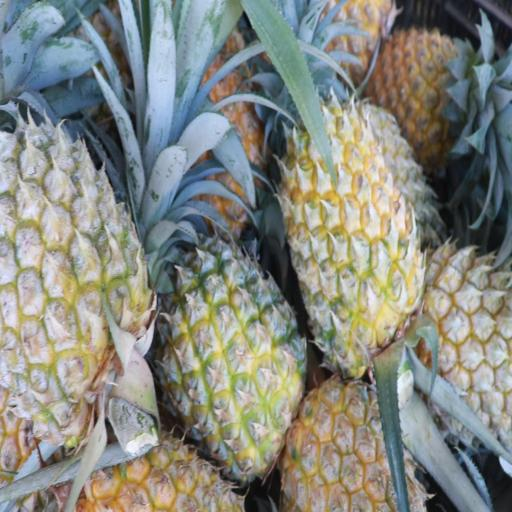------------------------------: (0, 133, 145, 424), (158, 241, 305, 470)
Pineapple - v8 v1: (279, 108, 422, 360), (286, 376, 423, 512), (378, 20, 496, 166)
